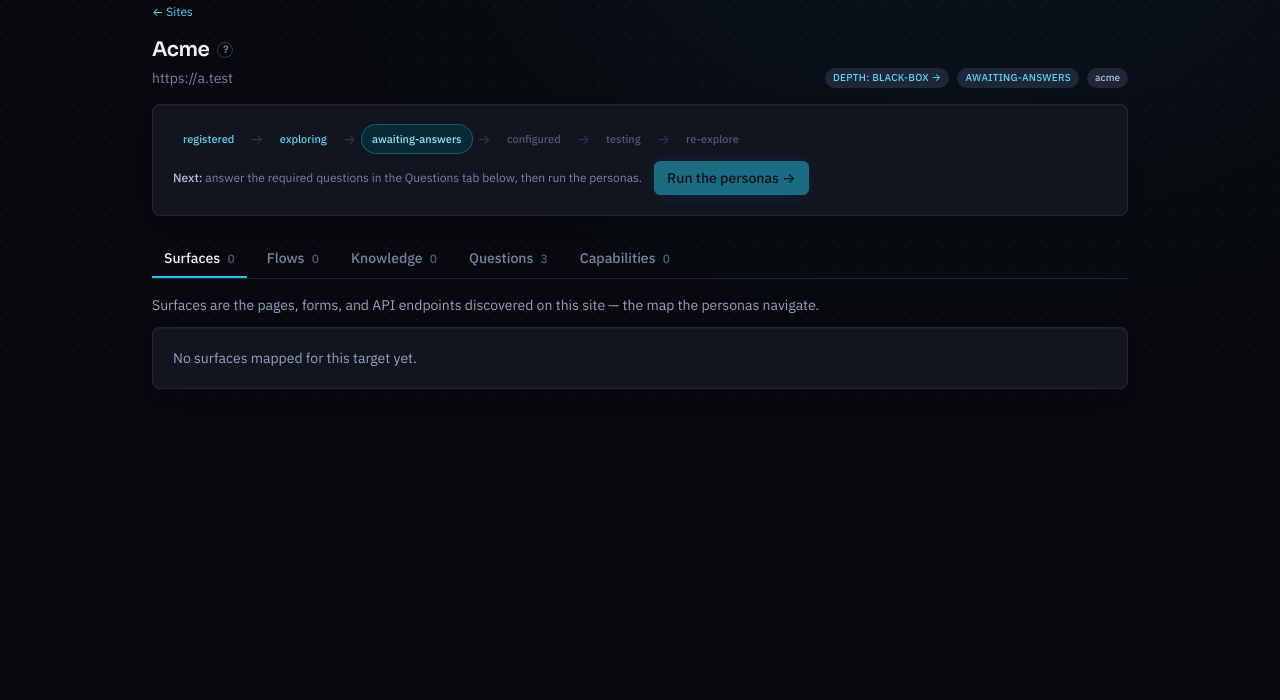
Test: <SiteTarget> capabilities › hides sensitive infra (L4-5) behind an Advanced-access toggle
The width and height of the screenshot is (1280, 700).
Click the button "Capabilities 0" at point(625, 259), box [568, 240, 682, 278]
(page scrolled)
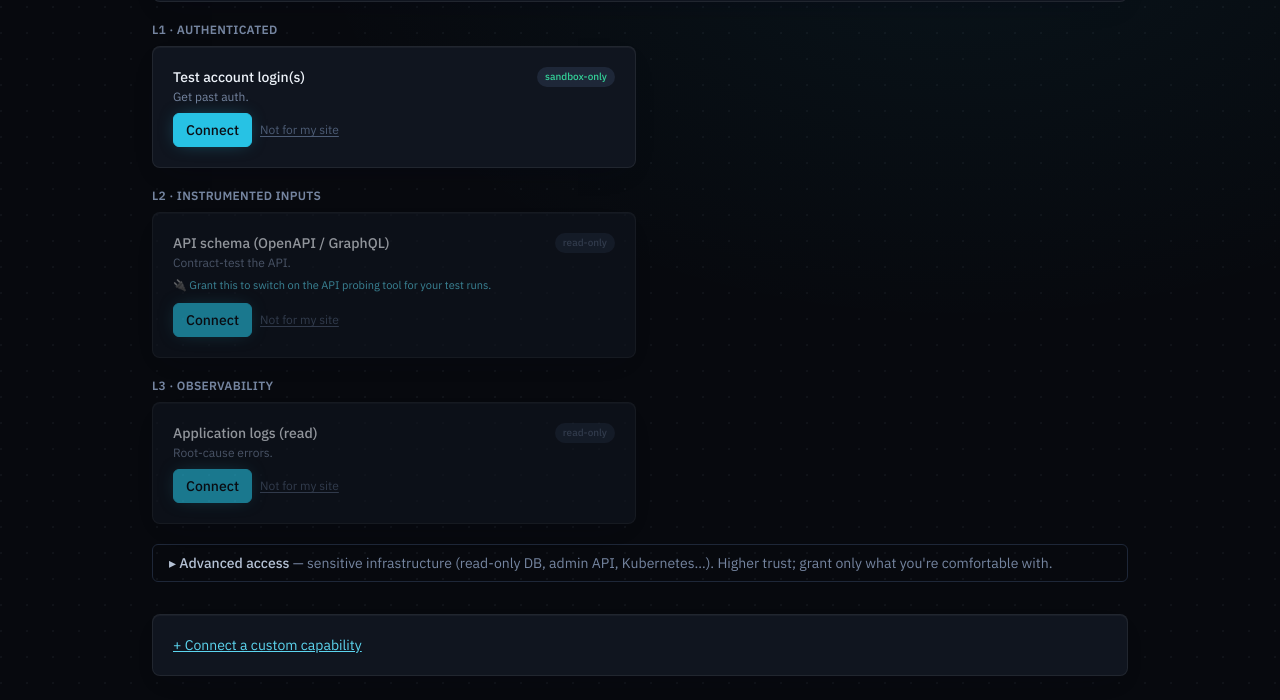
expect the element with test id "cap-test-account" is shown: met, box [152, 46, 636, 168]
Click the button with test id "advanced-toggle" at point(640, 563), box [152, 544, 1128, 582]
(page scrolled)
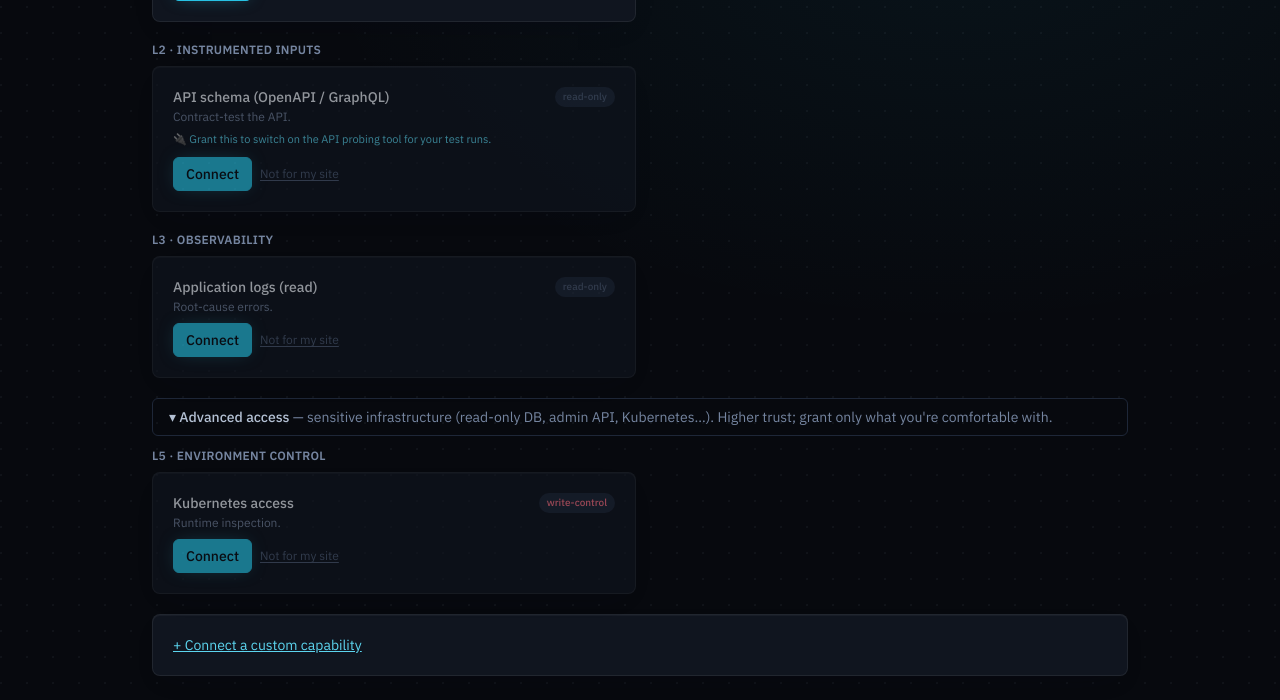
expect the element with test id "cap-kube-exec" is shown: met, box [152, 472, 636, 594]
